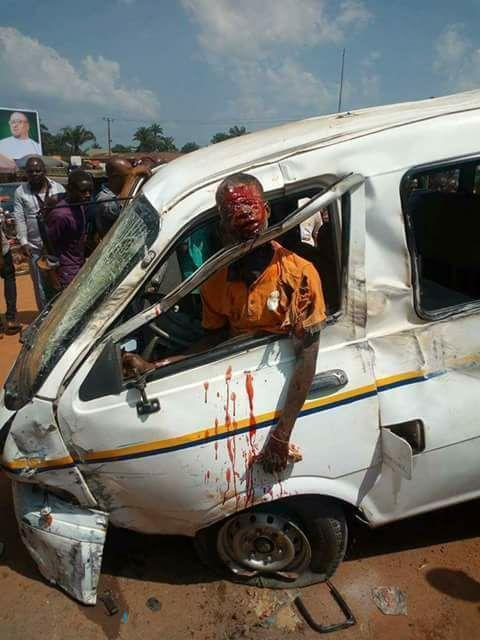Fire: (201, 344, 290, 518), (221, 181, 270, 240)
